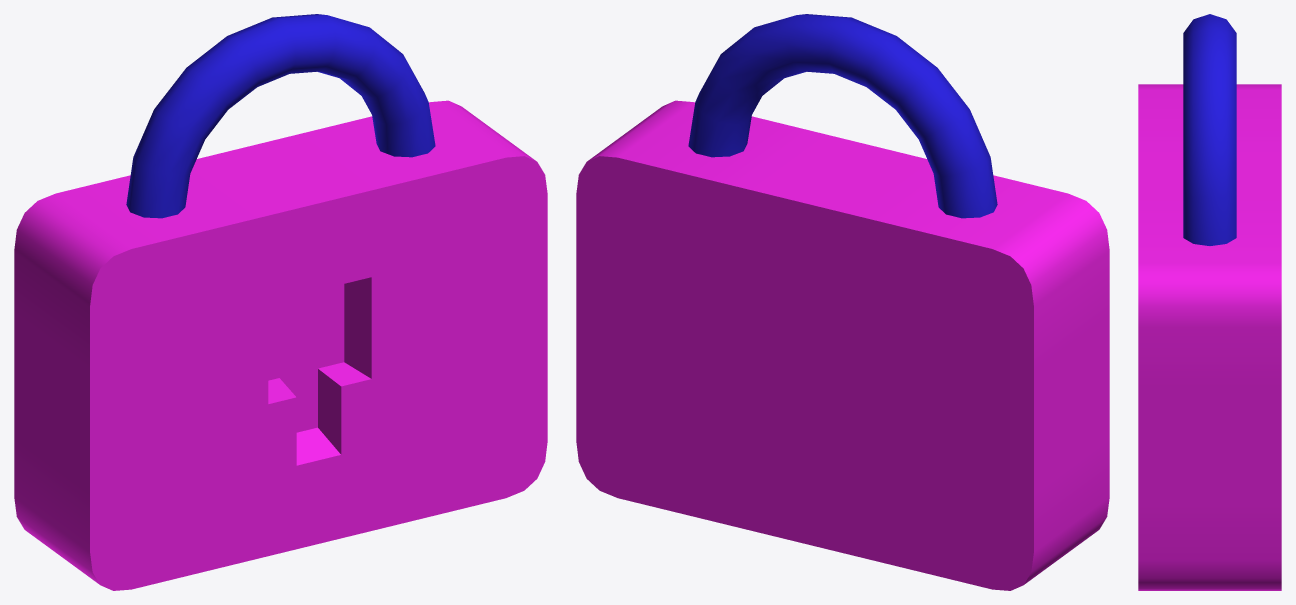
3 renders of one model, left to right at view 1: azimuth 30°, elevation 25°; view 2: azimuth 150°, elevation 25°; view 3: azimuth 270°, elevation 25°, orthographic. The views are drawn at different scales.
Visible parts, largest first — view 1: _Box001, 对象001; view 2: _Box001, 对象001; view 3: _Box001, 对象001.
Part boxes in pixels (x1,y1,x2,y2): _Box001: (14, 100, 547, 590); 对象001: (126, 14, 435, 218); _Box001: (576, 100, 1109, 590); 对象001: (688, 14, 997, 218); _Box001: (1138, 84, 1281, 590); 对象001: (1183, 14, 1236, 245).
Bounding box in the file's own units: 0.199 × 0.2066 × 0.0571.
